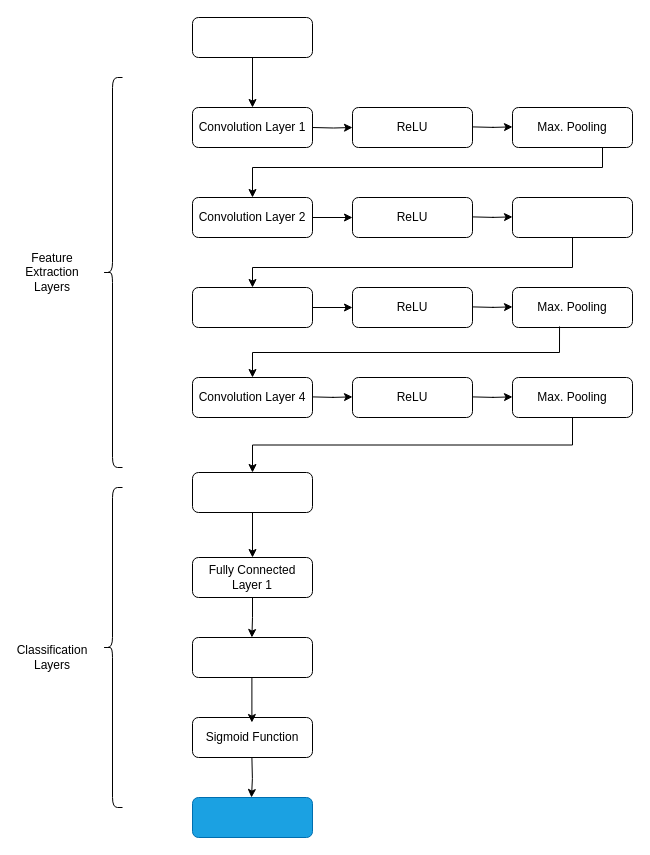
Image size: 650x855. Some labels were removed from this diagram. Here are the shapes that lost their labels. From the top down, the centre of each, then its label:
At point 252,37: "Input (Grayscale Image)".
At point 572,217: "Max Pooling".
At point 252,307: "Convolution Layer 3".
At point 252,492: "Flatten Layer".
At point 252,657: "Fully Connected Layer 2".
At point 252,817: "Output: Fresh/Rotten".
